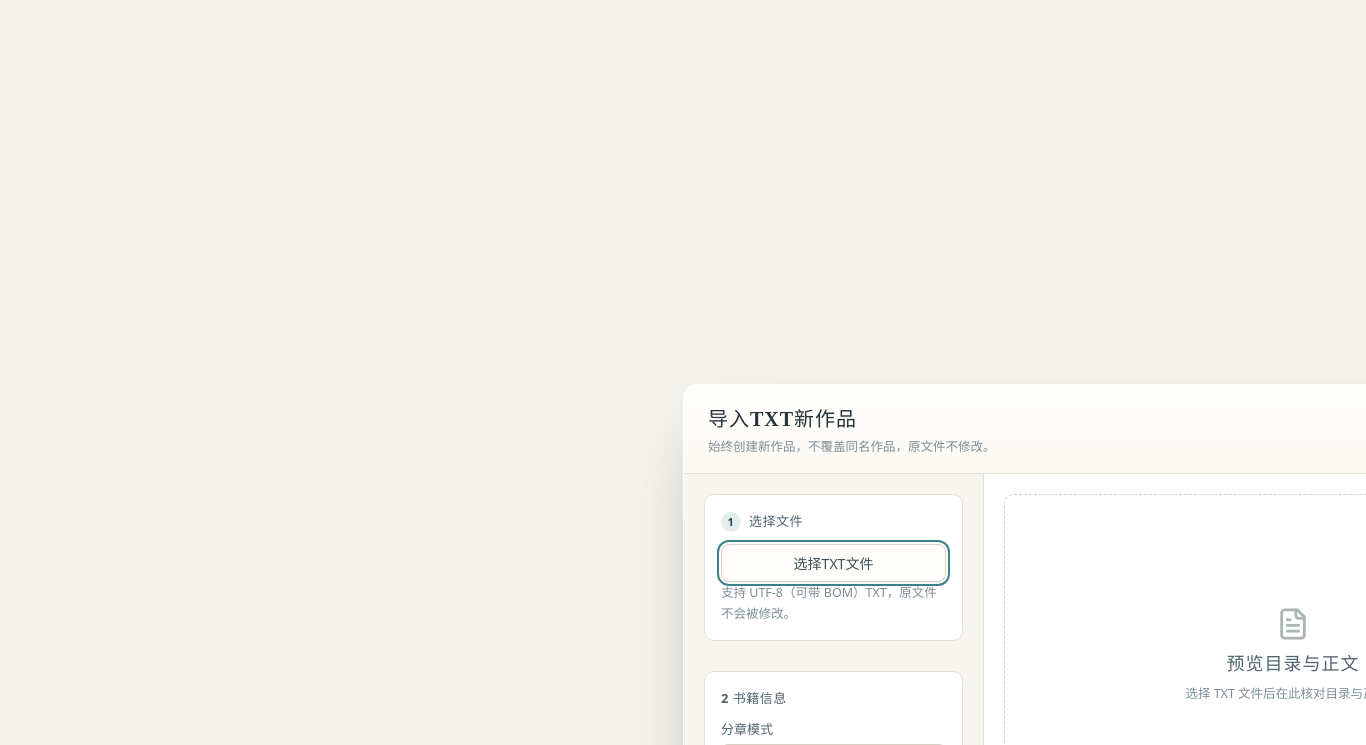
Test case: loads only selected chapter detail and confirms twice
The width and height of the screenshot is (1366, 745).
Later steps or results of the test are not shown.
Click the button "选择TXT文件".
click(834, 562)  # box x1=721 y1=544 x2=946 y2=582
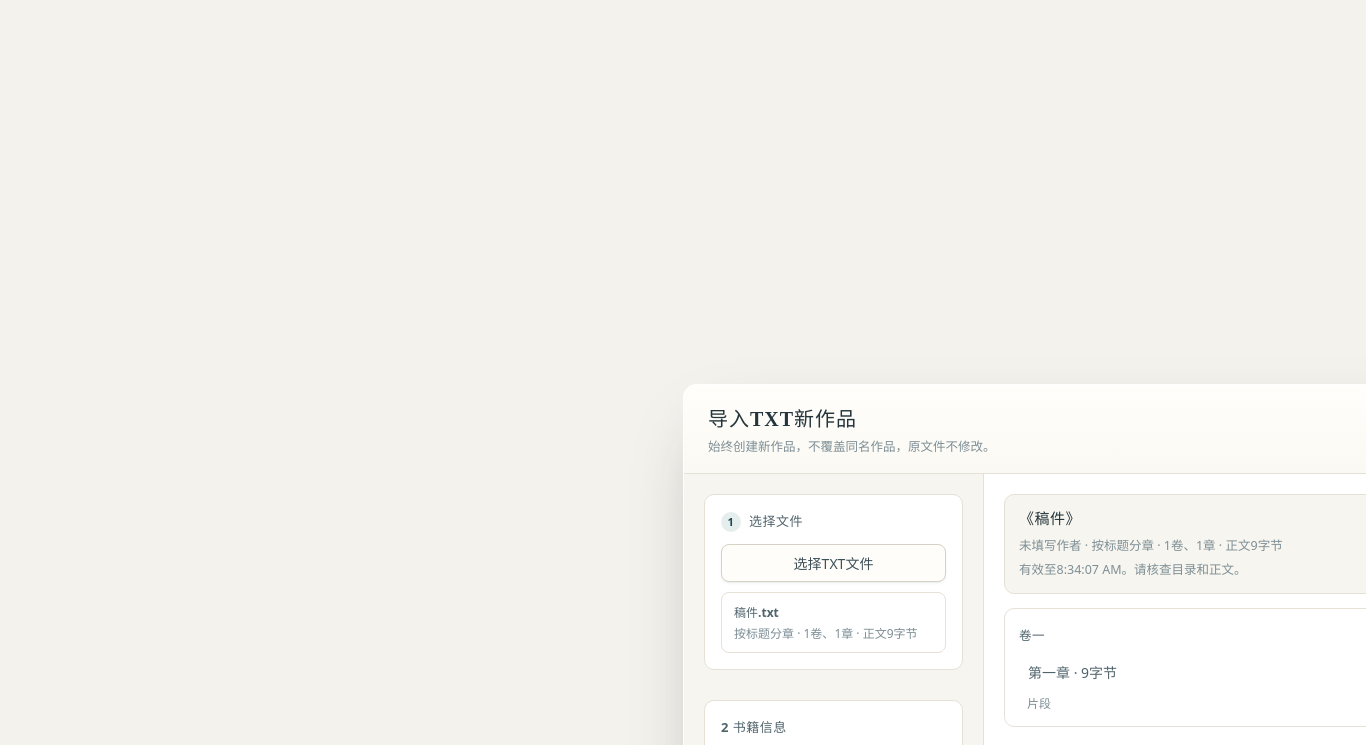
Expected: the text "稿件.txt" is shown, x1=734 y1=604 x2=779 y2=620
